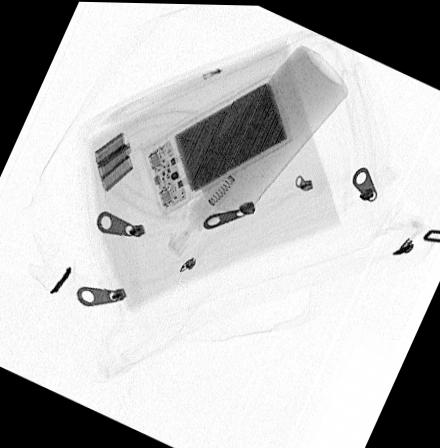Powerbank: (141, 73, 291, 215)
